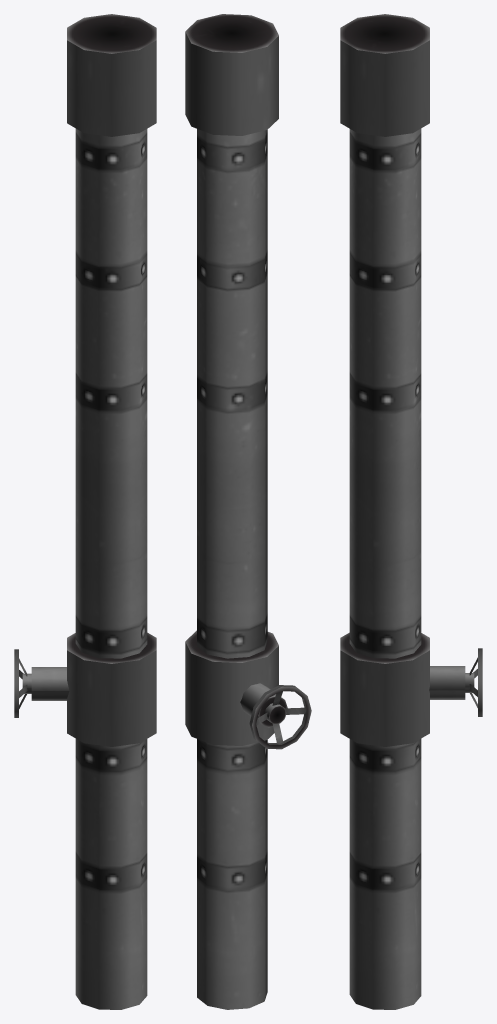
File: Pipe_Vert_03.FBX
3 views of the same model, side by side, from view 1: azimuth 90°, elevation 25°; view 2: azimuth 210°, elevation 25°; view 3: azimuth 270°, elevation 25° (orthographic).
Visible parts, largest first — view 1: Pipe_Vert_03; view 2: Pipe_Vert_03; view 3: Pipe_Vert_03.
Boxes of the visible parts, left/top/right/bottom form: Pipe_Vert_03: left=14, top=14, right=156, bottom=1009; Pipe_Vert_03: left=185, top=14, right=311, bottom=1009; Pipe_Vert_03: left=340, top=14, right=482, bottom=1009.
Size of the model in its own units: 12.5 by 140 by 18.83.
